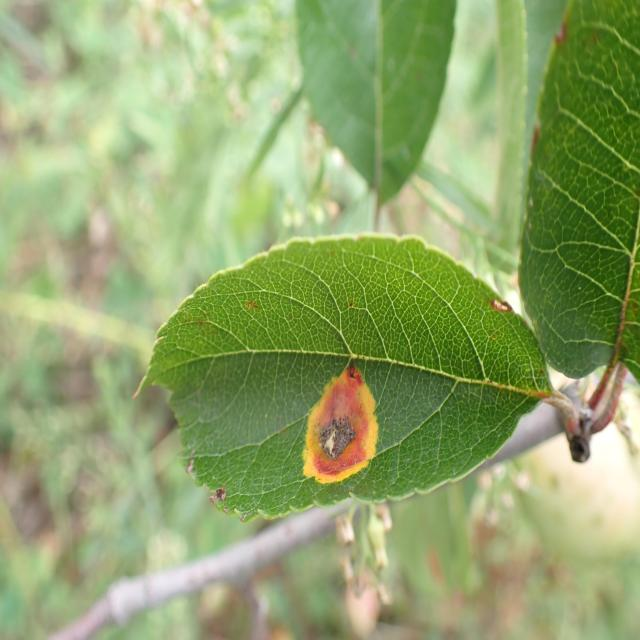rust: (131, 232, 548, 522)
